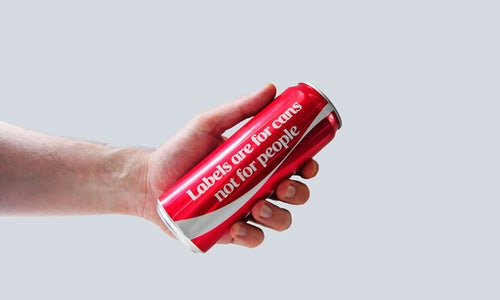coke: (155, 83, 343, 254)
